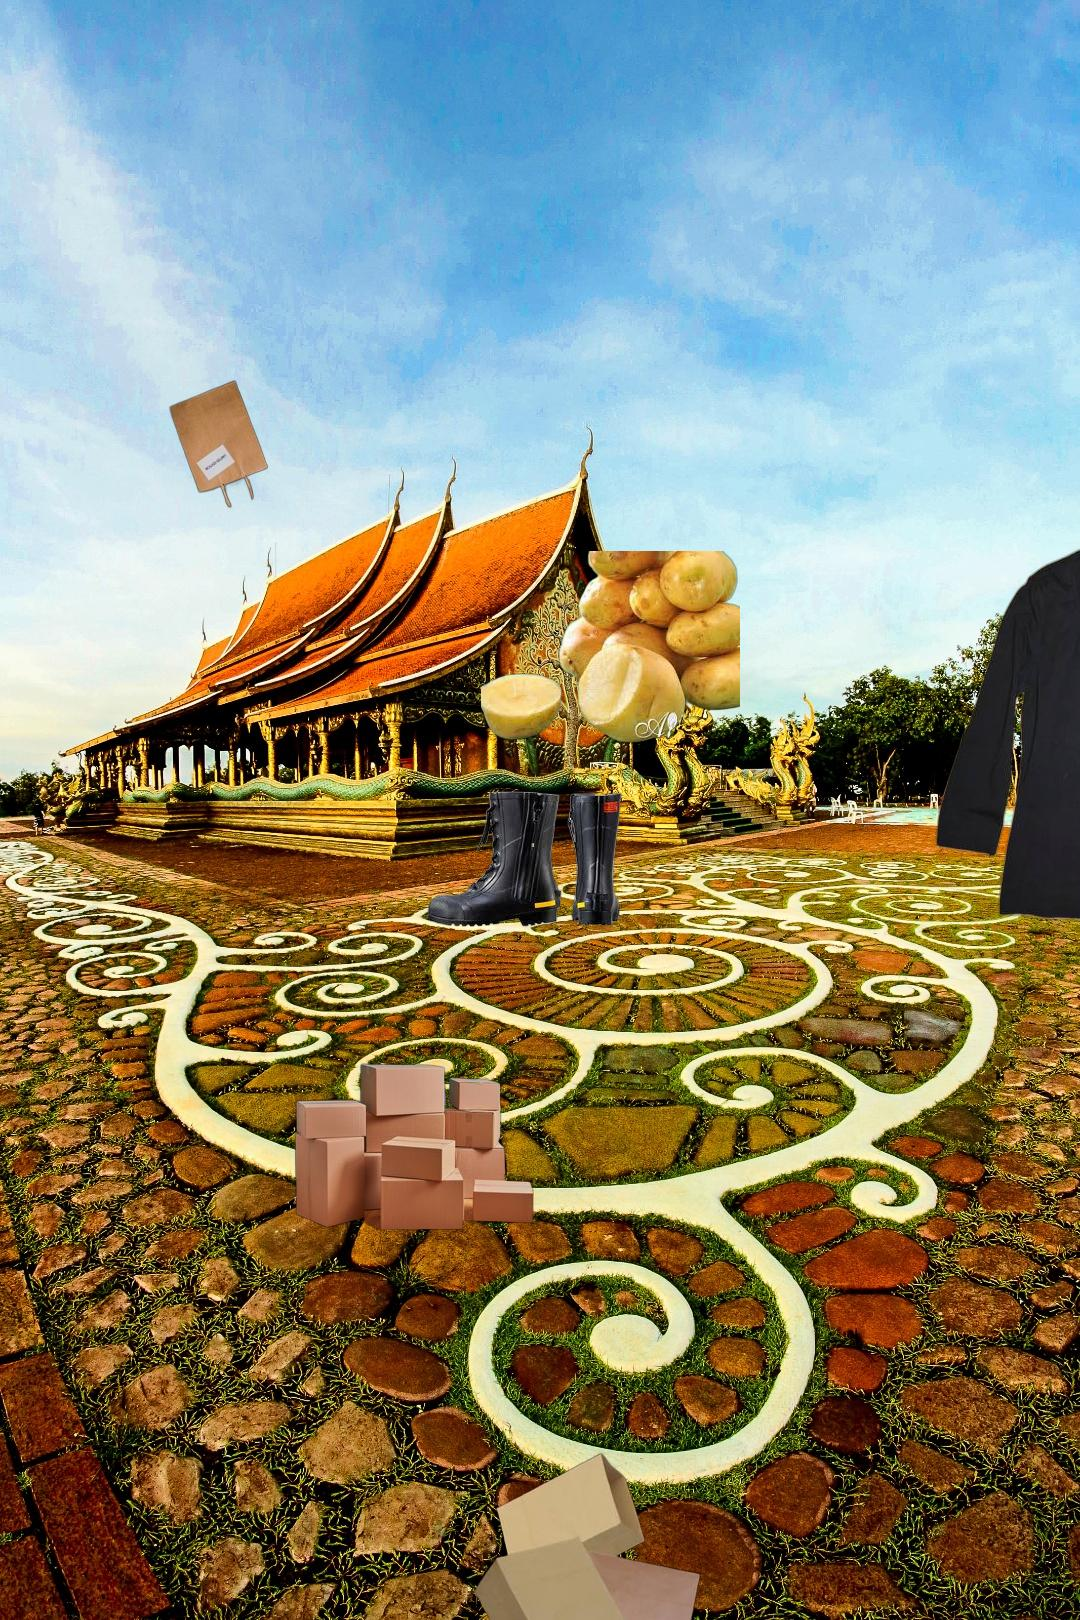biological: (481, 551, 740, 745)
clothes: (932, 544, 1080, 931)
paper-bag: (473, 1450, 703, 1620), (166, 378, 271, 510)
shoes: (425, 789, 624, 929)
trashbox-cardboard: (291, 1061, 537, 1233)
